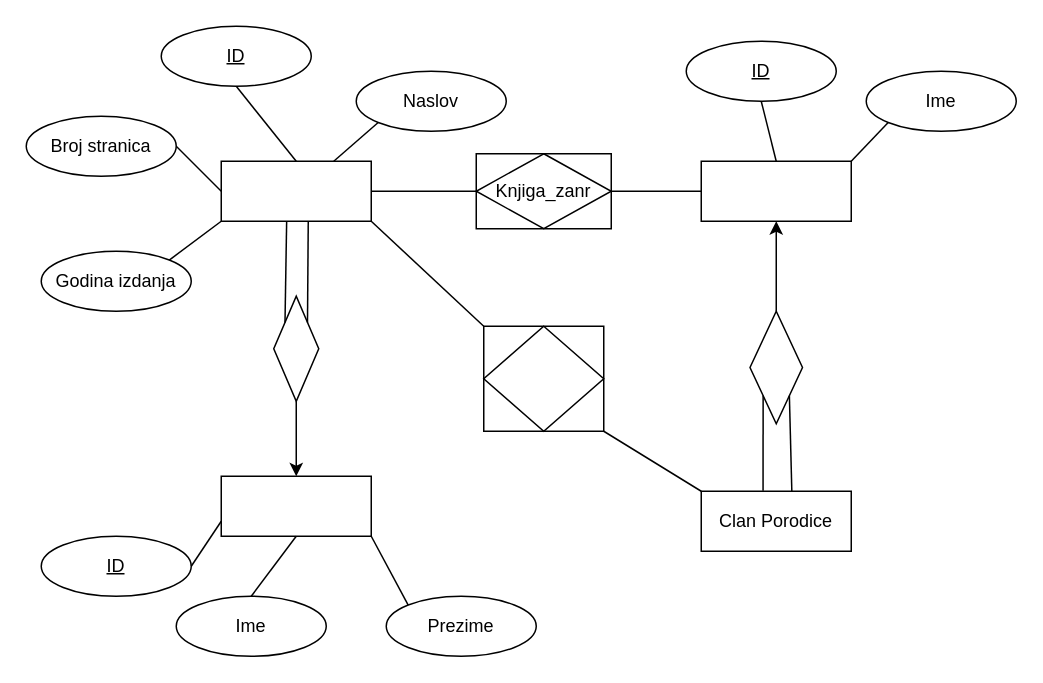
The diagram is 1043 pixels wide and 683 high, and some of its shapes have lost their labels. The centre of each missing label's shape, as x and y in pixels:
Autor: point (295, 505)
Knjiga: point (295, 190)
Procitana knjiga: point (543, 378)
Zanr: point (775, 190)
